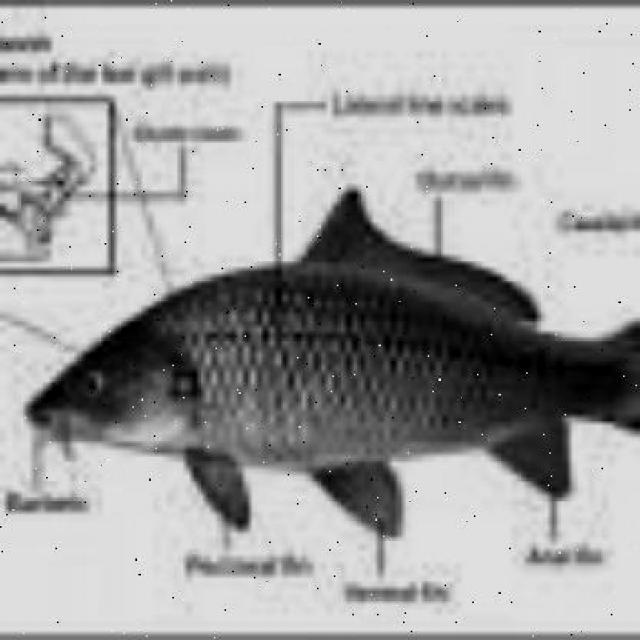ikan-mas: (19, 243, 639, 517)
